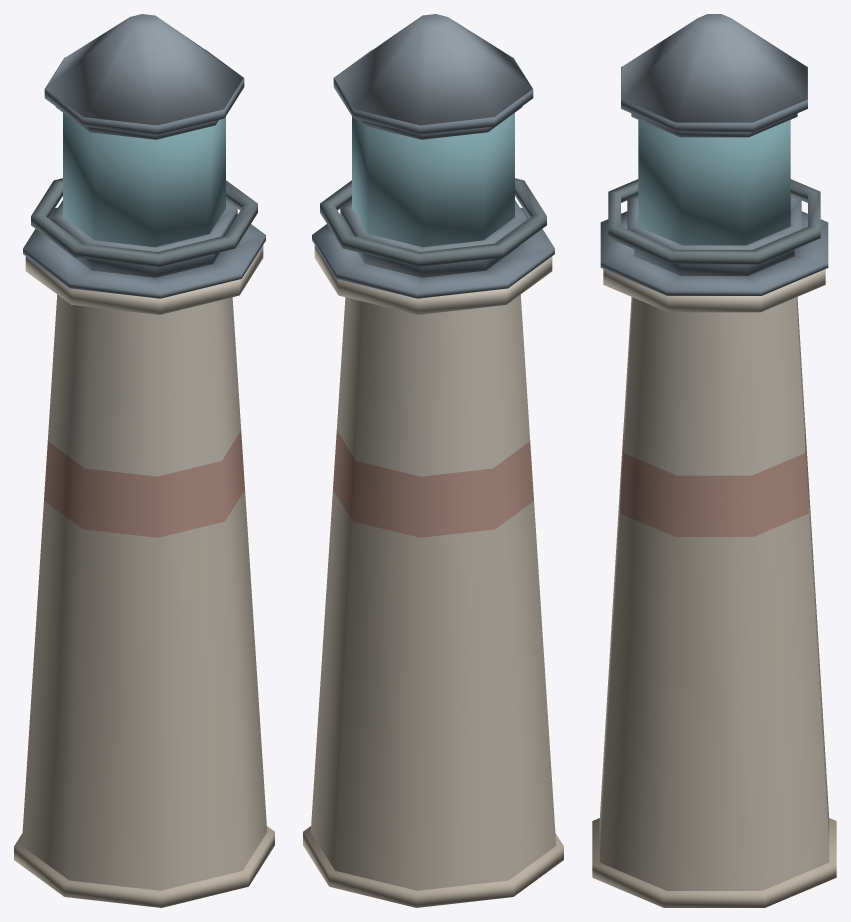
3 renders of one model, left to right at view 1: azimuth 30°, elevation 25°; view 2: azimuth 150°, elevation 25°; view 3: azimuth 270°, elevation 25°, orthographic.
Parts seen in each view (by area): view 1: lighthouse_static; view 2: lighthouse_static; view 3: lighthouse_static.
Part boxes in pixels (x1=…): lighthouse_static: x1=14, y1=14, x2=274, y2=907; lighthouse_static: x1=303, y1=14, x2=563, y2=907; lighthouse_static: x1=592, y1=14, x2=836, y2=907.
Bounding box in the file's own units: 4.58 × 17.3 × 4.58.
